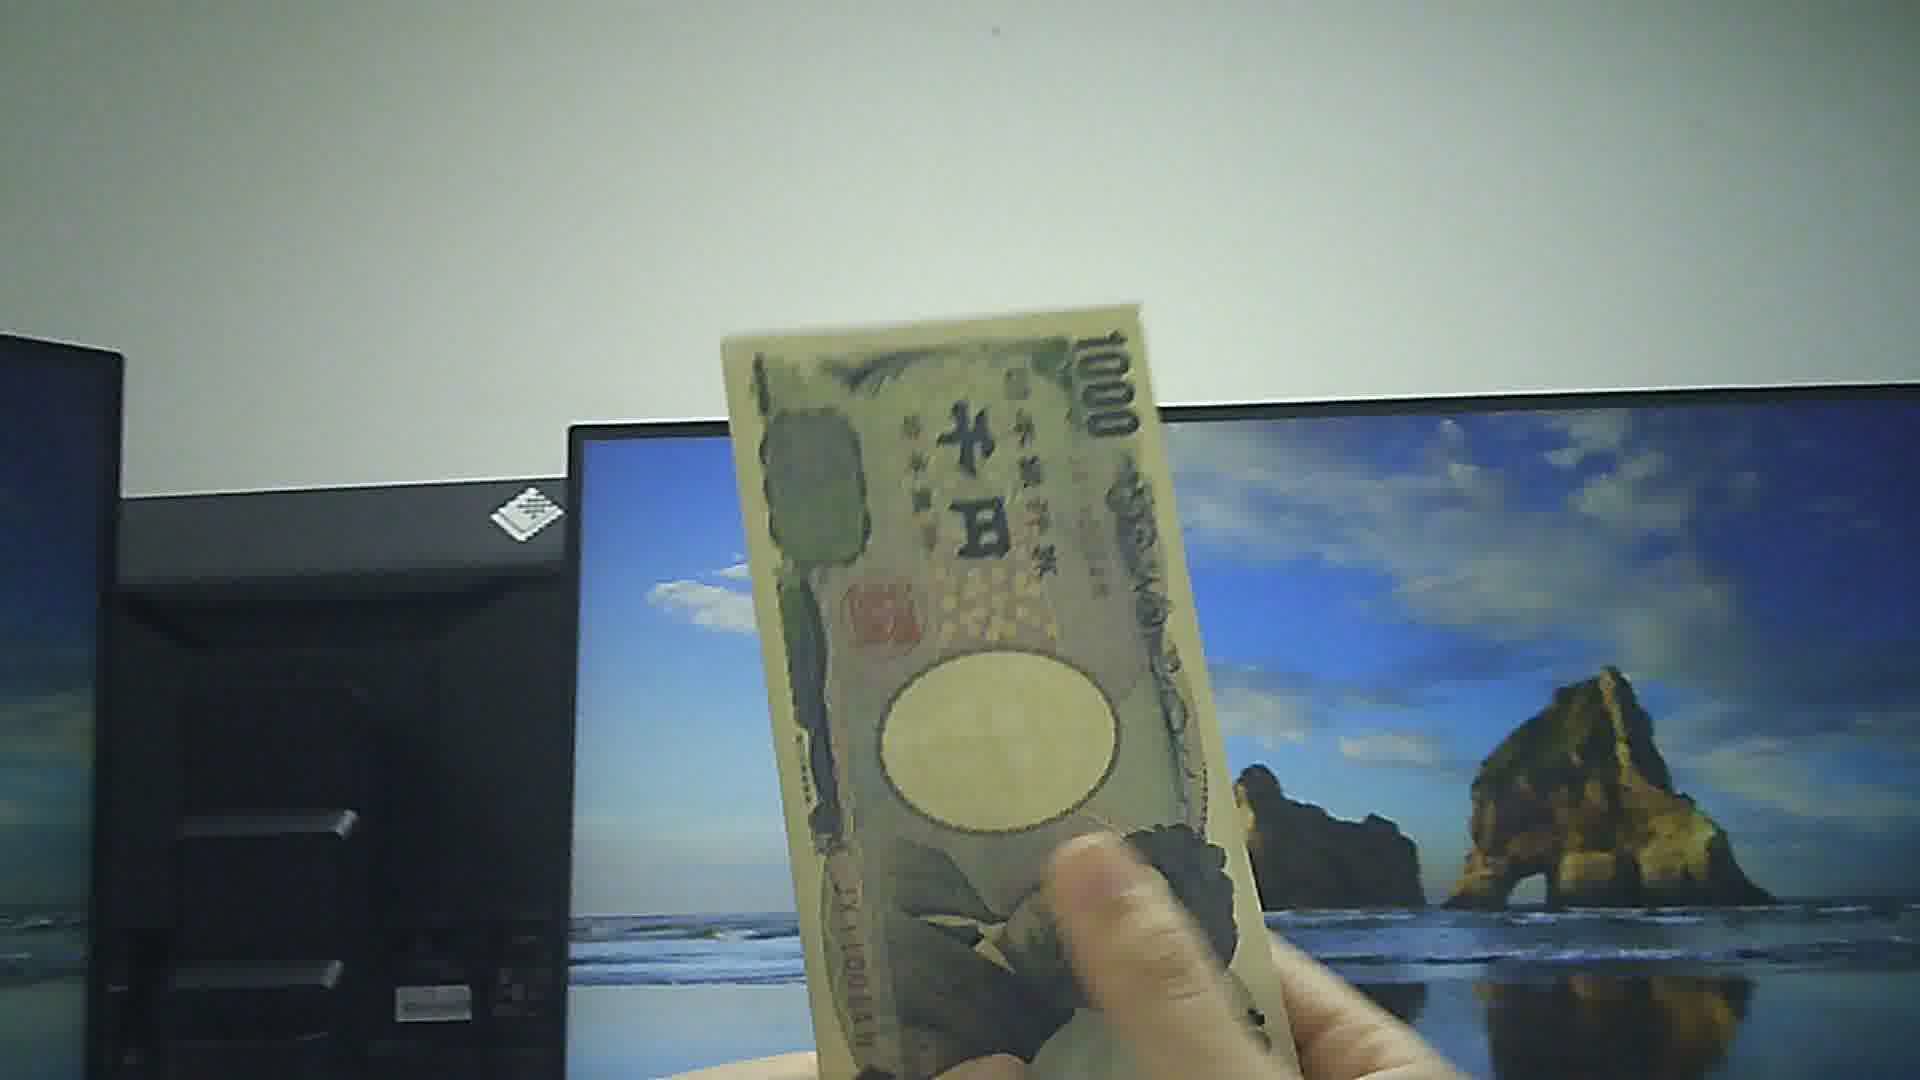1,000 Yen: (724, 309, 1288, 1065)
